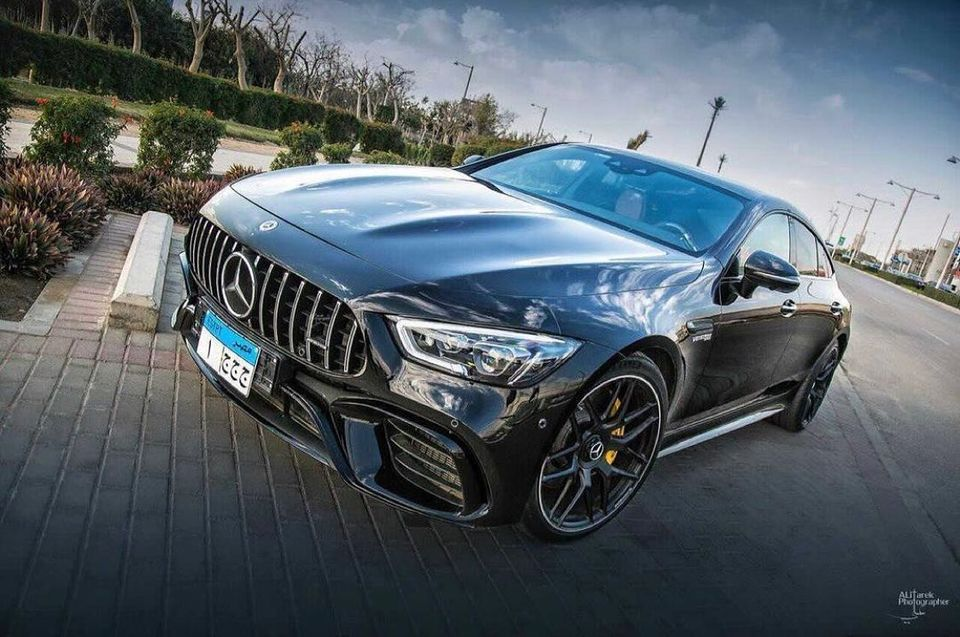carpl: (191, 328, 256, 391)
